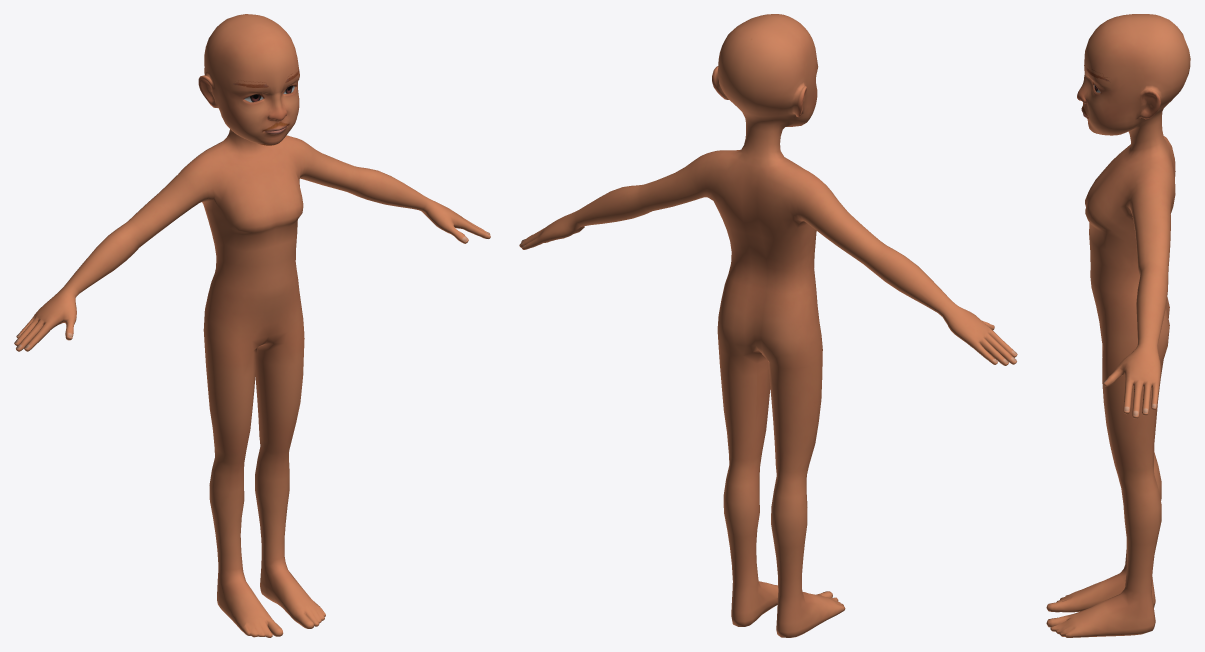
The model's file is frame_0019.glb.
The picture shows the model from 3 angles, left to right: view 1: azimuth 30°, elevation 25°; view 2: azimuth 150°, elevation 25°; view 3: azimuth 270°, elevation 25°; orthographic projection. The views are drawn at different scales.
Visible parts, largest first — view 1: frame_0019_head_geo; view 2: frame_0019_head_geo; view 3: frame_0019_head_geo.
Part boxes in pixels (<box>): frame_0019_head_geo: <box>14,14,490,637</box>; frame_0019_head_geo: <box>519,14,1017,637</box>; frame_0019_head_geo: <box>1046,14,1190,637</box>.
Size of the model in its own units: 1.28 by 1.5 by 0.3253.
Materials: 3 (3 with a texture image).
